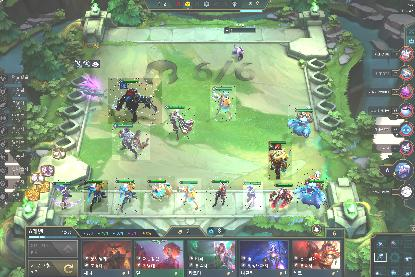1_diana: (206, 177, 232, 209)
1_leesin: (114, 178, 140, 214), (84, 180, 108, 212)
1_nunu: (296, 168, 328, 208), (288, 105, 314, 137)
1_olaf: (269, 182, 295, 212)
1_seraphine: (147, 176, 175, 202)
1_varus: (52, 180, 82, 210), (243, 182, 263, 210)
1_volibear: (268, 142, 292, 180)
1_zeri: (177, 178, 201, 212)
2_rakan: (165, 106, 195, 140)
2_rengar: (108, 78, 162, 124)
2_sylas: (112, 122, 150, 160)
2_zeri: (210, 85, 236, 121)
